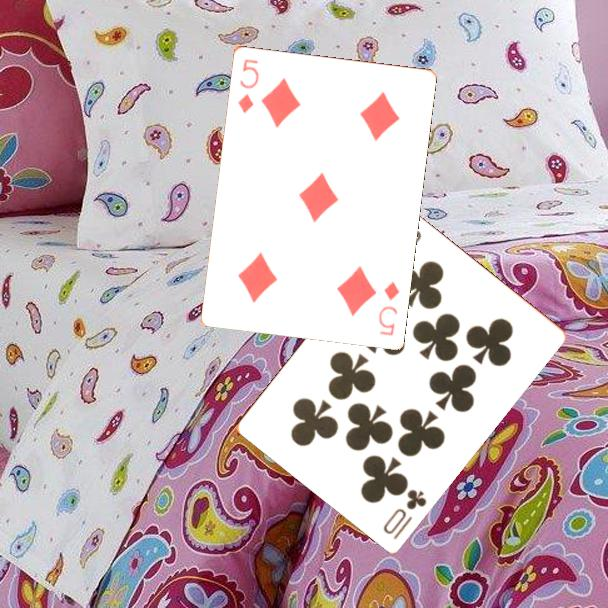c10: (379, 485, 429, 542)
d05: (234, 55, 262, 116), (375, 278, 402, 338)
